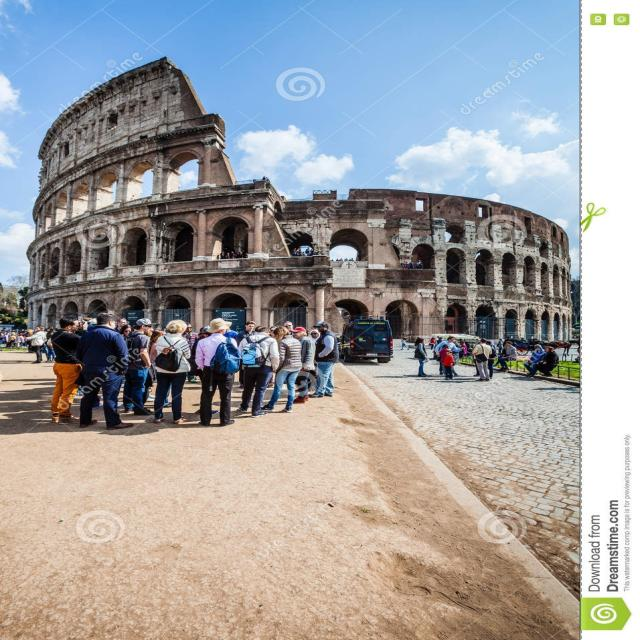body: (74, 310, 137, 430), (205, 247, 433, 272), (194, 317, 242, 428), (150, 318, 192, 426), (235, 324, 280, 417), (48, 316, 86, 426), (260, 325, 303, 413), (120, 317, 152, 415), (307, 321, 340, 398), (289, 325, 316, 404), (178, 322, 200, 383), (434, 336, 465, 376), (20, 325, 46, 364), (471, 338, 493, 382), (145, 330, 164, 372), (0, 326, 33, 348), (535, 346, 558, 377), (523, 344, 546, 375), (42, 326, 60, 362), (255, 321, 293, 338), (413, 336, 429, 376), (236, 320, 258, 348), (497, 341, 517, 371), (491, 344, 511, 371), (486, 340, 498, 380), (472, 340, 483, 377), (442, 350, 455, 380), (454, 338, 470, 359), (439, 344, 449, 376), (76, 316, 98, 330), (504, 335, 538, 344), (111, 316, 129, 332), (163, 384, 172, 410), (194, 326, 210, 340), (308, 329, 322, 344), (118, 324, 133, 338), (150, 323, 166, 335), (399, 335, 410, 351), (495, 338, 505, 355), (224, 327, 240, 337), (93, 396, 104, 410), (428, 336, 436, 351), (211, 402, 219, 416), (117, 397, 125, 410), (435, 336, 446, 345), (75, 384, 82, 397)
